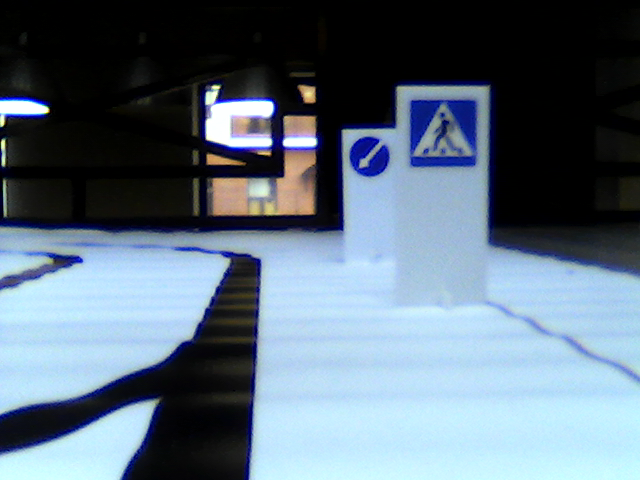pesh: (410, 99, 476, 167)
prep: (347, 136, 389, 174)
